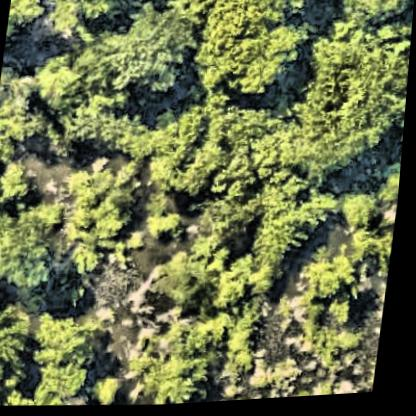tree-top: (291, 20, 414, 179), (56, 148, 156, 278), (195, 0, 316, 103), (249, 170, 343, 287), (98, 0, 204, 103), (31, 303, 118, 404), (155, 97, 237, 204), (162, 228, 262, 315), (132, 316, 222, 409), (0, 194, 65, 293), (0, 287, 41, 408), (301, 248, 365, 306), (7, 0, 50, 28)
